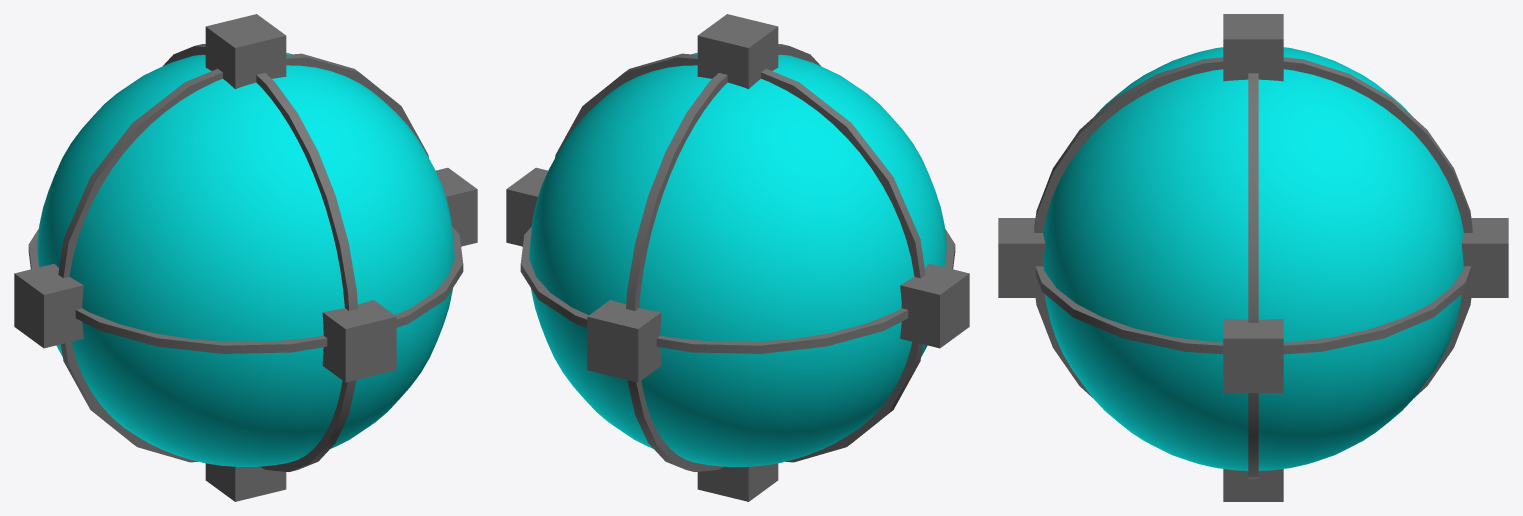
Rendered from core.fbx.
3 views of the same model, side by side, from view 1: azimuth 30°, elevation 25°; view 2: azimuth 150°, elevation 25°; view 3: azimuth 270°, elevation 25° (orthographic).
Visible parts, largest first — view 1: pSphere1, pCylinder3, pCylinder2, pCube14, pCylinder1, pCube13, pCube10, pCube11, pCube15; view 2: pSphere1, pCylinder3, pCylinder2, pCube12, pCylinder1, pCube13, pCube10, pCube11, pCube15; view 3: pSphere1, pCylinder2, pCylinder1, pCube15, pCube10, pCylinder3, pCube12, pCube14, pCube11.
Part boxes in pixels (x1,y1,x2,y2): pSphere1: [37, 53, 454, 466]; pCylinder3: [58, 53, 428, 462]; pCylinder2: [162, 44, 357, 471]; pCube14: [322, 300, 396, 382]; pCylinder1: [28, 226, 463, 353]; pCube13: [14, 263, 83, 348]; pCube10: [205, 14, 286, 89]; pCube11: [205, 463, 286, 501]; pCube15: [436, 167, 477, 246]; pSphere1: [529, 53, 946, 466]; pCylinder3: [555, 53, 925, 462]; pCylinder2: [626, 44, 821, 471]; pCube12: [587, 300, 661, 382]; pCylinder1: [520, 226, 955, 353]; pCube13: [900, 263, 969, 348]; pCube10: [697, 14, 778, 89]; pCube11: [697, 463, 778, 501]; pCube15: [506, 167, 547, 246]; pSphere1: [1043, 47, 1463, 470]; pCylinder2: [1034, 57, 1472, 397]; pCylinder1: [1035, 266, 1471, 354]; pCube15: [1223, 318, 1283, 392]; pCube10: [1223, 14, 1283, 81]; pCylinder3: [1248, 73, 1258, 478]; pCube12: [1461, 218, 1508, 297]; pCube14: [998, 218, 1045, 297]; pCube11: [1223, 469, 1283, 501].
Bounding box in the file's own units: 10.61 × 10.61 × 10.61.
